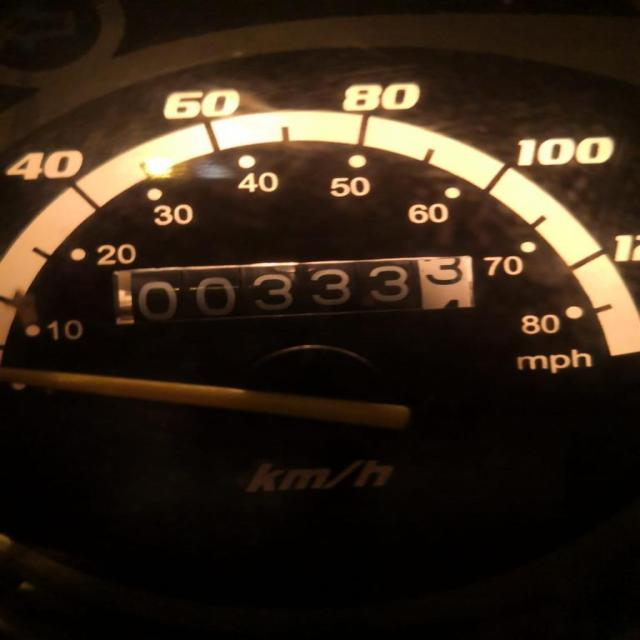odometer: (103, 254, 479, 327)
